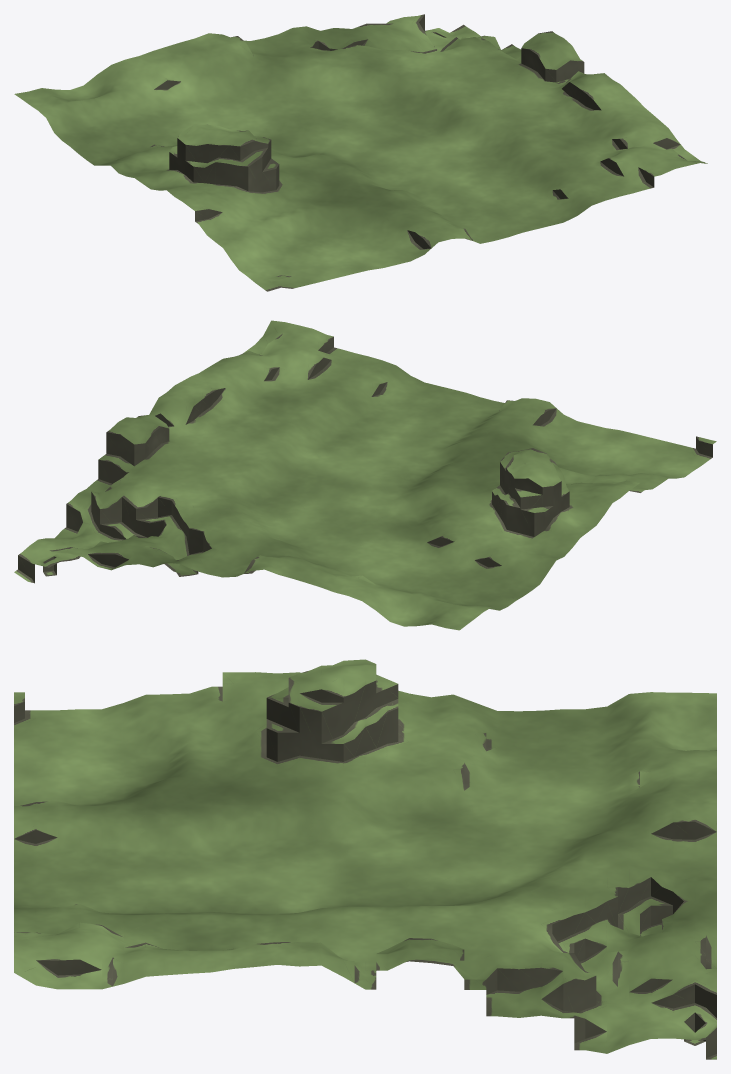
File: Chunk(0,-1).glb
The picture shows the model from 3 angles, top to bottom: view 1: azimuth 30°, elevation 25°; view 2: azimuth 150°, elevation 25°; view 3: azimuth 270°, elevation 25°; orthographic projection. The views are drawn at different scales.
Bounding box in the file's own units: 64 × 14.25 × 64.
Materials: 1 (1 with a texture image).
